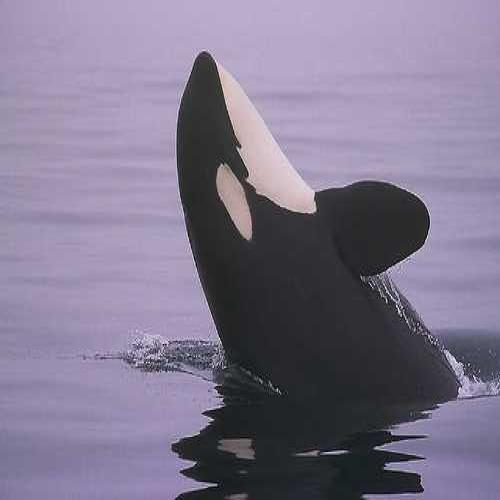killer_whale-endangered: (163, 32, 496, 460)
